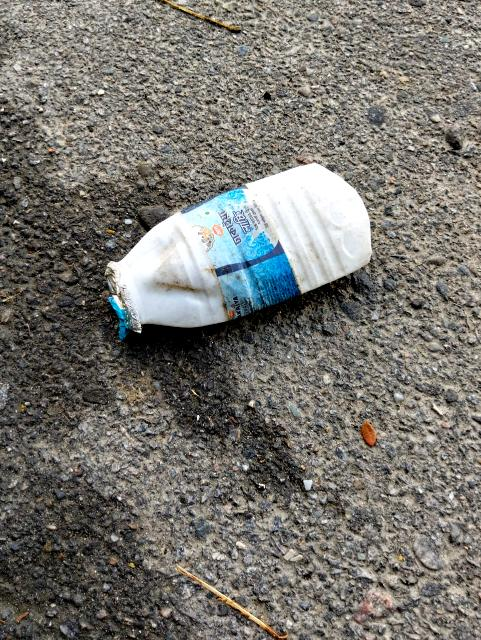bottle: (101, 138, 396, 361)
